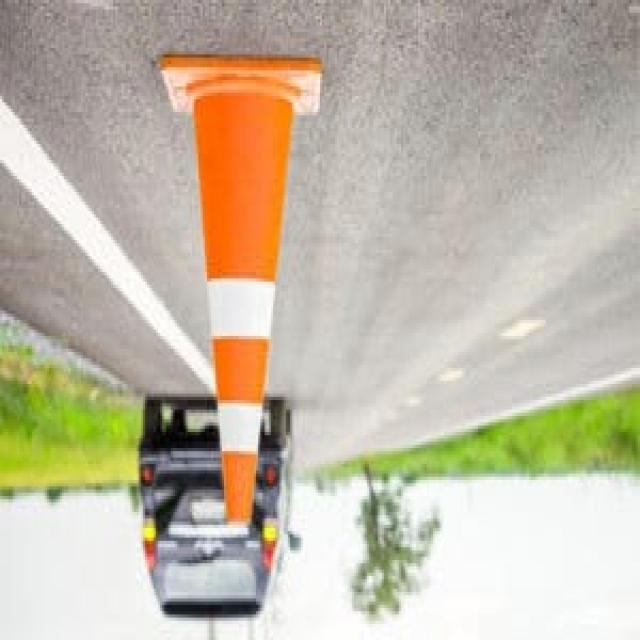cone: (147, 55, 326, 525)
